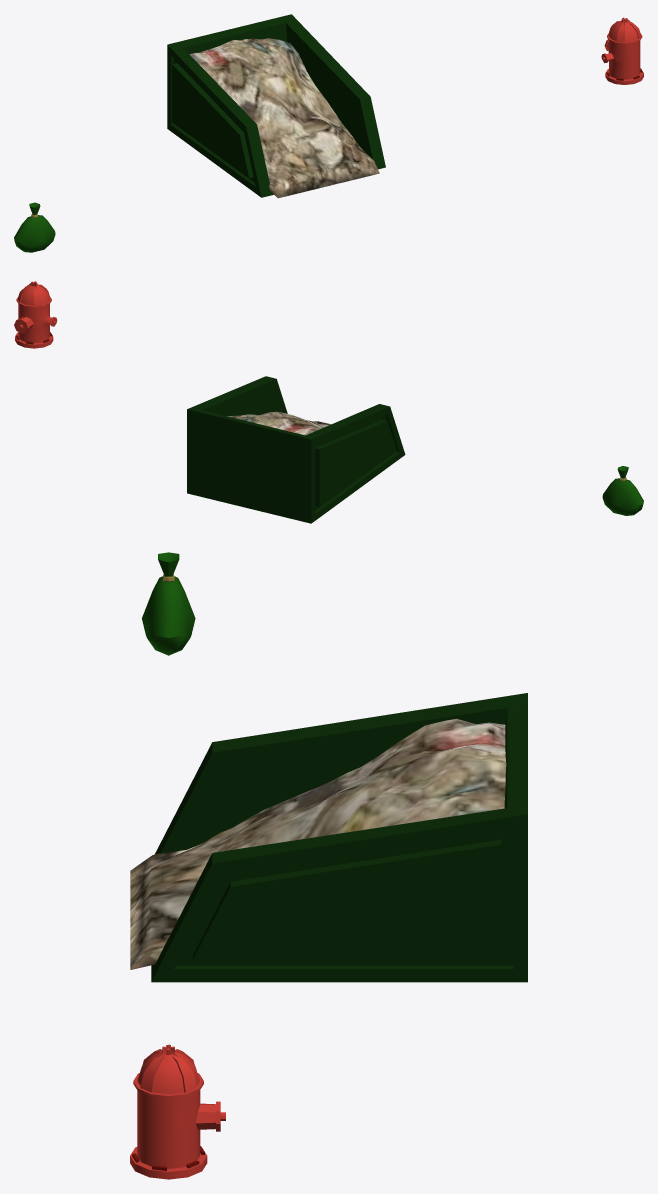
File: Misc_ding_dong_delivery_assets_1.fbx
3 views of the same model, one above another, from view 1: azimuth 30°, elevation 25°; view 2: azimuth 150°, elevation 25°; view 3: azimuth 270°, elevation 25° (orthographic). The views are drawn at different scales.
Visible parts, largest first — view 1: Trash_Ramp, Landscape, Fire_hydrant, Trash_Bag; view 2: Trash_Ramp, Fire_hydrant, Trash_Bag, Landscape; view 3: Trash_Ramp, Landscape, Fire_hydrant, Trash_Bag.
Part boxes in pixels (x1,y1,x2,y2): Trash_Ramp: (167, 14, 385, 197); Landscape: (190, 38, 379, 198); Fire_hydrant: (601, 17, 643, 84); Trash_Bag: (14, 202, 55, 252); Trash_Ramp: (187, 376, 405, 523); Fire_hydrant: (14, 281, 57, 348); Trash_Bag: (602, 466, 643, 515); Landscape: (227, 411, 330, 435); Trash_Ramp: (151, 693, 527, 982); Landscape: (130, 718, 506, 969); Fire_hydrant: (130, 1044, 225, 1179); Trash_Bag: (142, 552, 195, 655).
Size of the model in its own units: 1084 by 147 by 298.
Materials: 6 (1 with a texture image).
